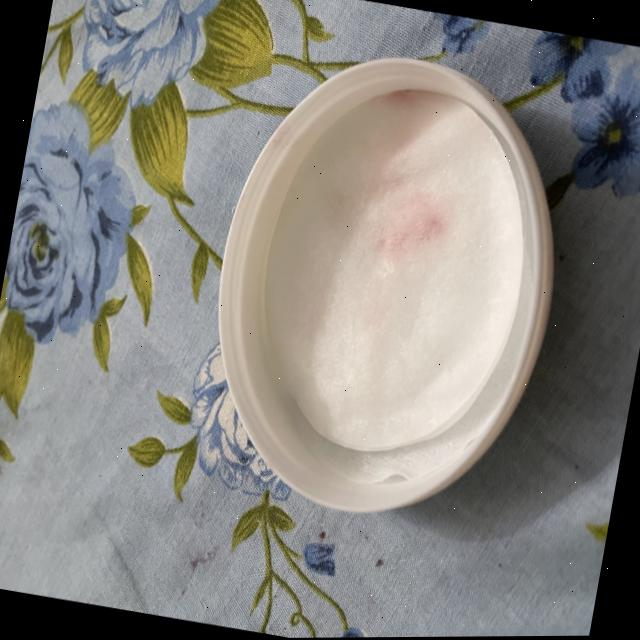nail polish remover: (165, 21, 596, 565)
